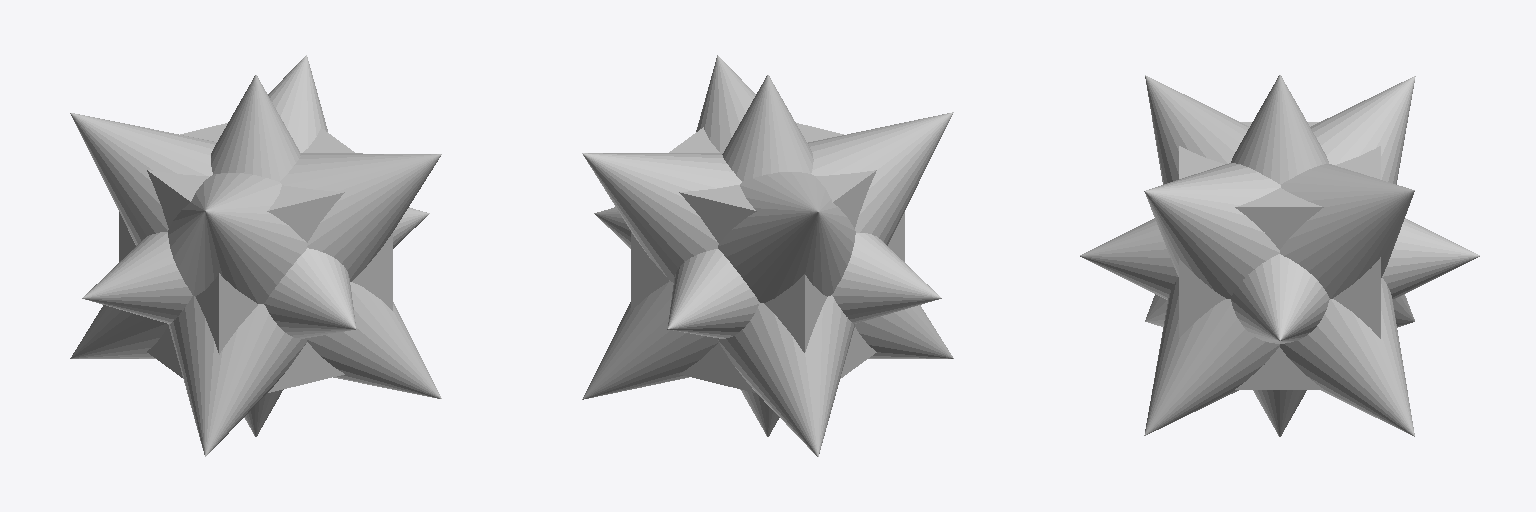
The model's file is obstacle.obj.
The picture shows the model from 3 angles: view 1: azimuth 30°, elevation 25°; view 2: azimuth 150°, elevation 25°; view 3: azimuth 270°, elevation 25°; orthographic projection.
Parts seen in each view (by area): view 1: Cube; view 2: Cube; view 3: Cube.
Part boxes in pixels (x1,y1,x2,y2): Cube: (70, 55, 441, 456); Cube: (582, 55, 953, 456); Cube: (1080, 75, 1479, 436).
Bounding box in the file's own units: 1.2 × 1.2 × 1.2.